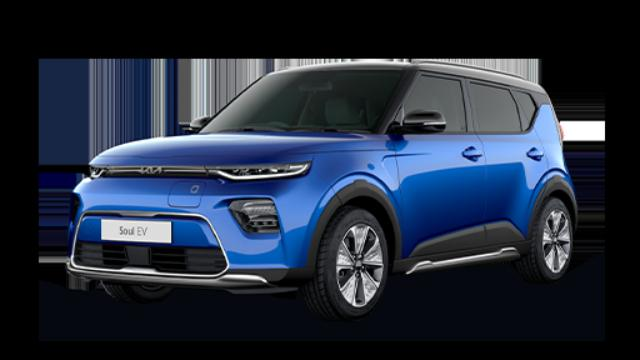kia: (64, 58, 578, 324)
